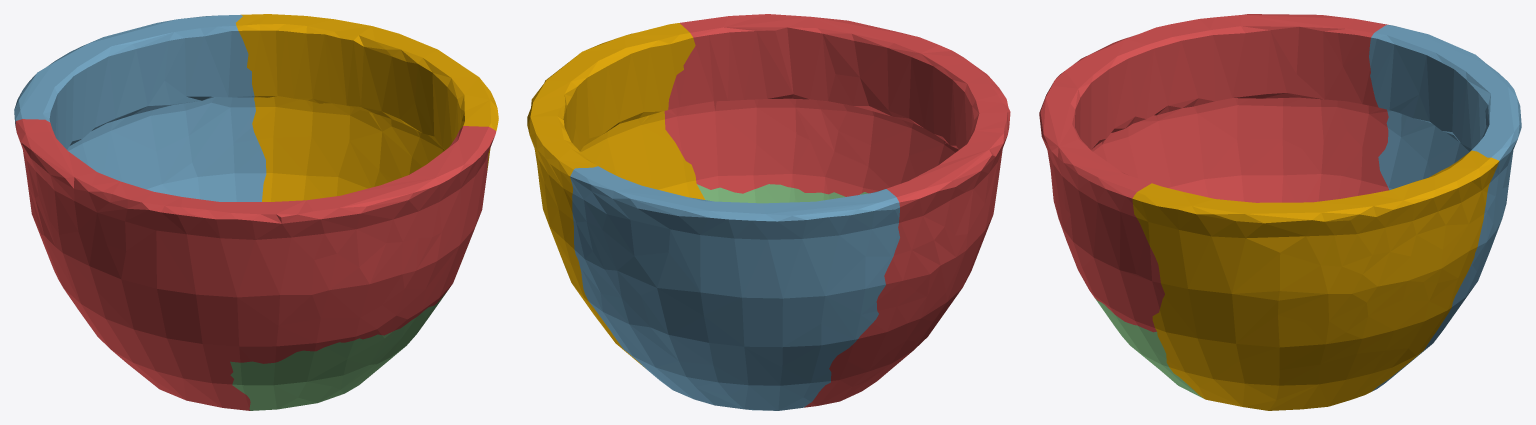
Rendered from fractured_34_4pcs.glb.
3 views of the same model, side by side, from view 1: azimuth 30°, elevation 25°; view 2: azimuth 150°, elevation 25°; view 3: azimuth 270°, elevation 25° (orthographic).
Visible parts, largest first — view 1: piece_1.obj, piece_0.obj, piece_2.obj, piece_3.obj; view 2: piece_1.obj, piece_2.obj, piece_0.obj, piece_3.obj; view 3: piece_1.obj, piece_0.obj, piece_2.obj, piece_3.obj.
Part boxes in pixels (x1=…): piece_1.obj: x1=15, y1=119, x2=496, y2=410; piece_0.obj: x1=236, y1=14, x2=498, y2=201; piece_2.obj: x1=14, y1=14, x2=266, y2=201; piece_3.obj: x1=230, y1=291, x2=447, y2=410; piece_1.obj: x1=664, y1=14, x2=1010, y2=407; piece_2.obj: x1=570, y1=166, x2=899, y2=410; piece_0.obj: x1=527, y1=23, x2=704, y2=368; piece_3.obj: x1=697, y1=184, x2=868, y2=203; piece_1.obj: x1=1039, y1=14, x2=1388, y2=332; piece_0.obj: x1=1132, y1=150, x2=1499, y2=410; piece_2.obj: x1=1369, y1=25, x2=1521, y2=391; piece_3.obj: x1=1095, y1=298, x2=1203, y2=398.
Bounding box in the file's own units: 1 × 0.5684 × 0.999.
